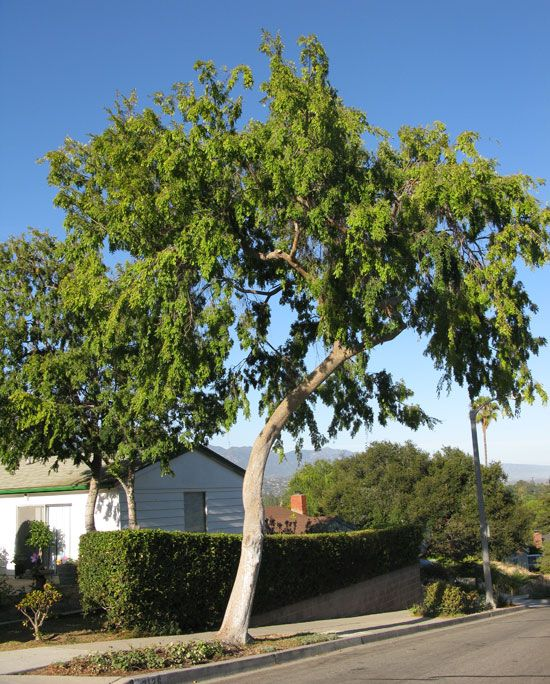tree: (15, 24, 550, 651)
